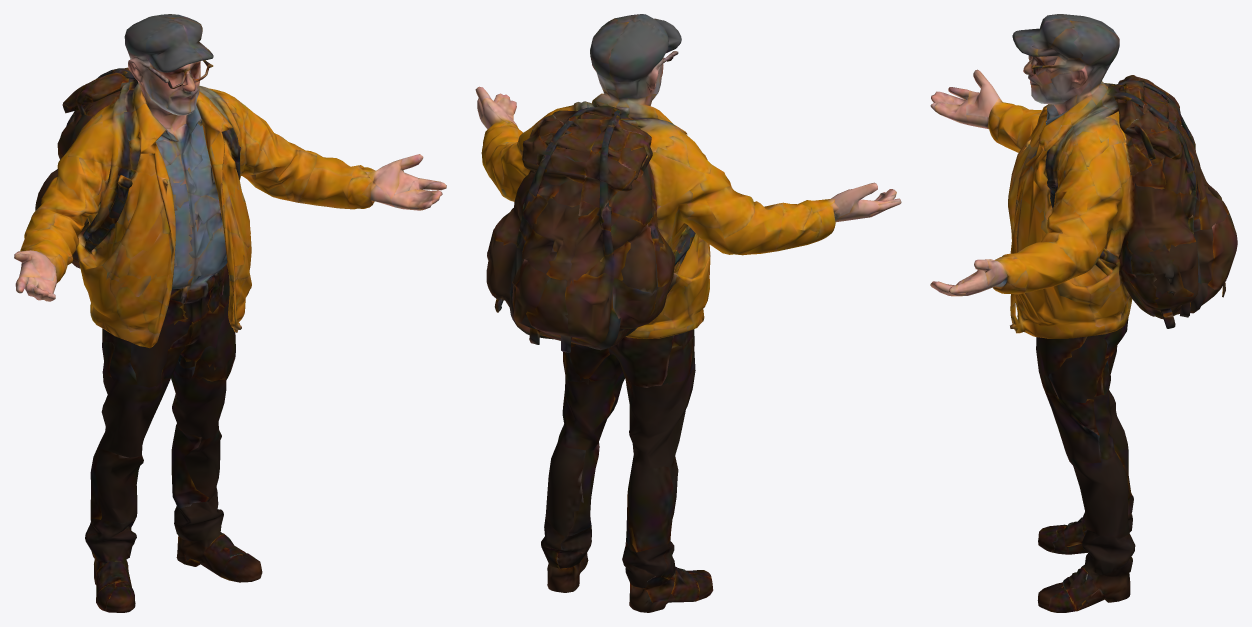
The model's file is pax-easy.glb.
3 views of the same model, side by side, from view 1: azimuth 30°, elevation 25°; view 2: azimuth 150°, elevation 25°; view 3: azimuth 270°, elevation 25° (orthographic). The views are drawn at different scales.
Bounding box in the file's own units: 1.5 × 1.9 × 0.9534.
Materials: 1 (1 with a texture image).
